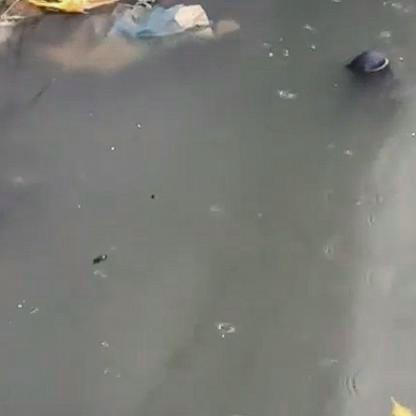Trash: (100, 3, 214, 42), (342, 48, 393, 81)
